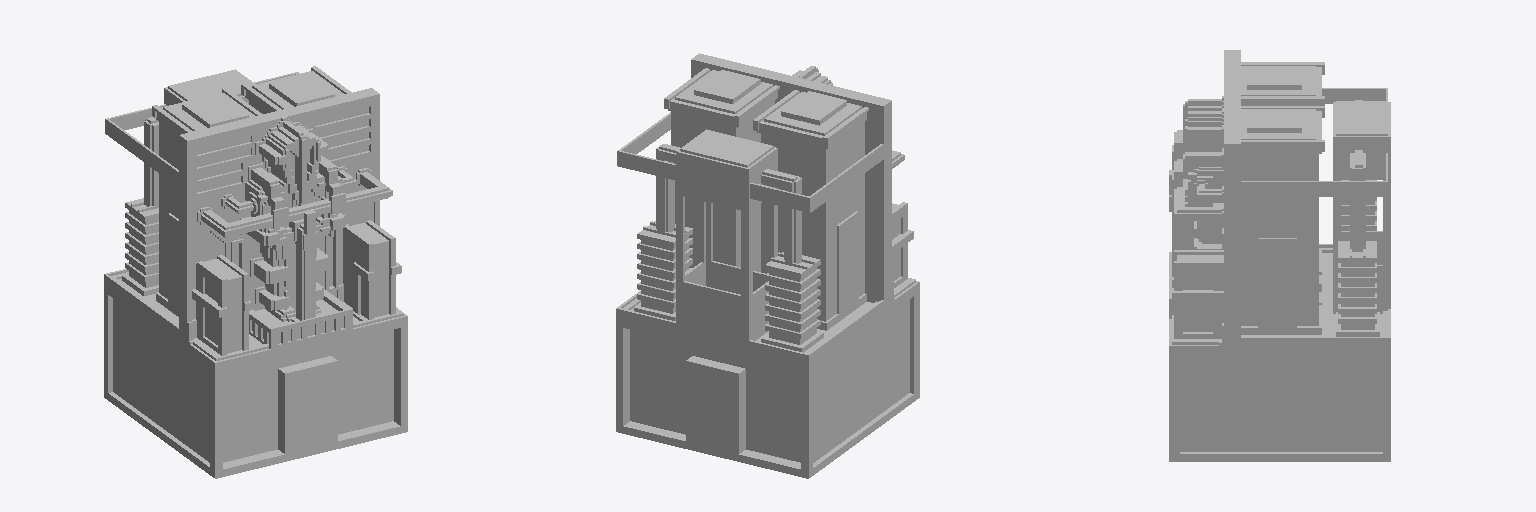
The model's file is deus.obj.
3 renders of one model, left to right at view 1: azimuth 30°, elevation 25°; view 2: azimuth 150°, elevation 25°; view 3: azimuth 270°, elevation 25°, orthographic.
Parts seen in each view (by area): view 1: Deus; view 2: Deus; view 3: Deus.
Part boxes in pixels (x1,y1,x2,y2): Deus: (104,66,407,478); Deus: (616,53,919,478); Deus: (1169,50,1390,461).
Size of the model in its own units: 80 by 126 by 80.